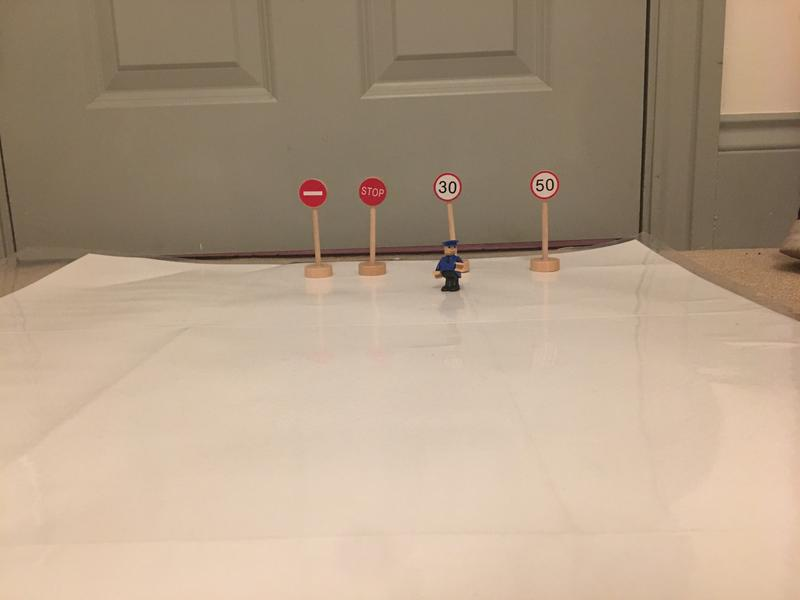Traffic_Sign_30: (433, 173, 462, 201)
Traffic_Sign_50: (530, 169, 560, 199)
Traffic_Sign_No_Entry: (299, 179, 327, 207)
Traffic_Sign_Stop: (358, 177, 387, 206)
person: (433, 241, 468, 295)
